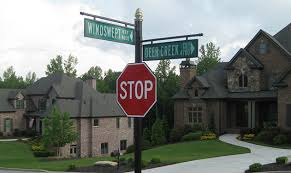stop_sign: (116, 63, 159, 119)
